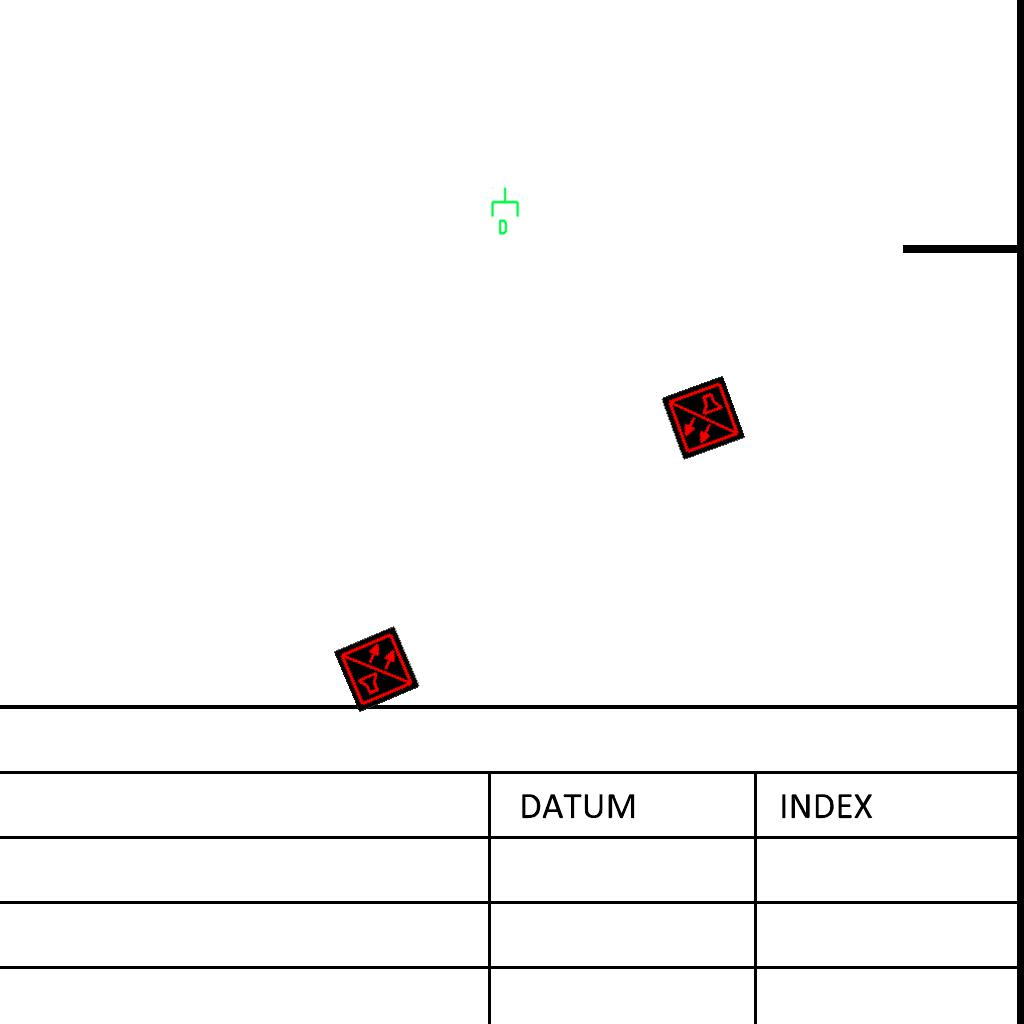Datenanschluss_einfach: (489, 186, 523, 236)
OKW_Multisensormelder_(Kombination_optischer_Rauch-Kahlenmonoxid_Waerme-Melder): (333, 625, 421, 713), (660, 375, 746, 461)
